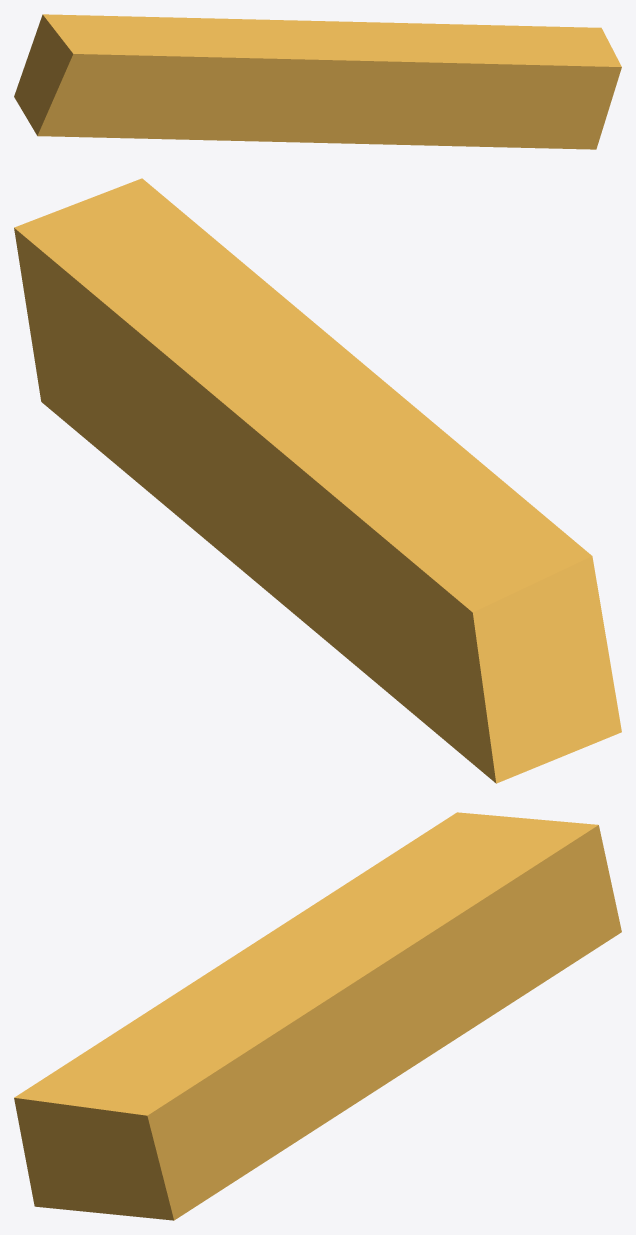
File: fbx_hamburger_ff.fbx
3 renders of one model, top to bottom at view 1: azimuth 30°, elevation 25°; view 2: azimuth 150°, elevation 25°; view 3: azimuth 270°, elevation 25°, orthographic. The views are drawn at different scales.
Visible parts, largest first — view 1: fbx_hamburger_ff; view 2: fbx_hamburger_ff; view 3: fbx_hamburger_ff.
Boxes of the visible parts, x1,y1,x2,y2 form: fbx_hamburger_ff: (14,14,621,149); fbx_hamburger_ff: (14,178,621,783); fbx_hamburger_ff: (14,812,621,1220).
Bounding box in the file's own units: 0.4851 × 0.0858 × 0.387.
1 material, 1 textured.
